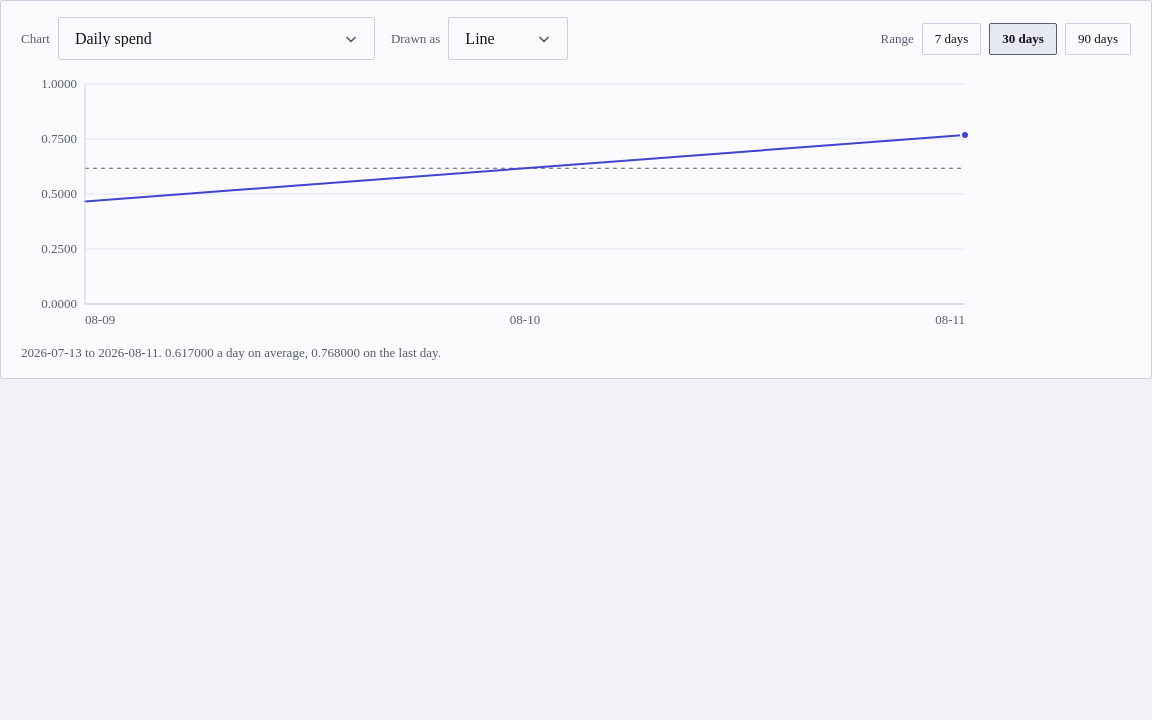
Test case: admin cost charts (W11) › stops adding series at six and lets go again once one is dropped
Select "Compare series" in the dropdown with test id "admin-cost-view" at point(216, 38), box [58,17,375,60]
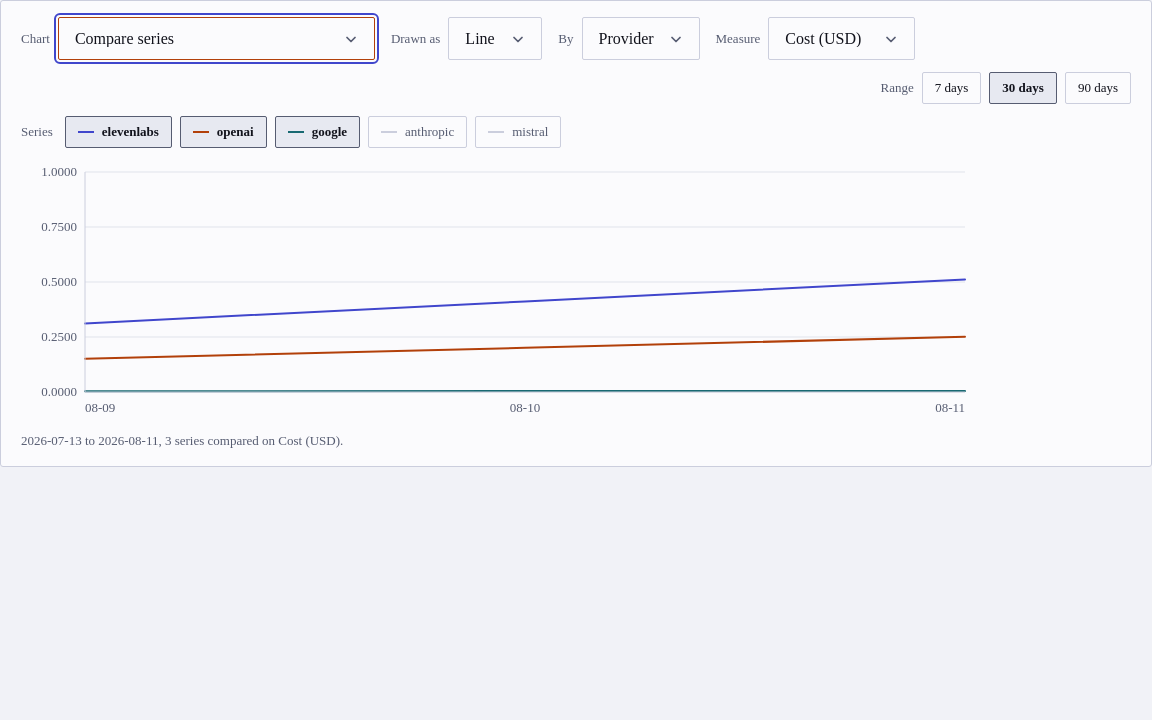
Select "Model" in the dropdown with test id "admin-cost-by" at point(640, 38), box [582,17,700,60]
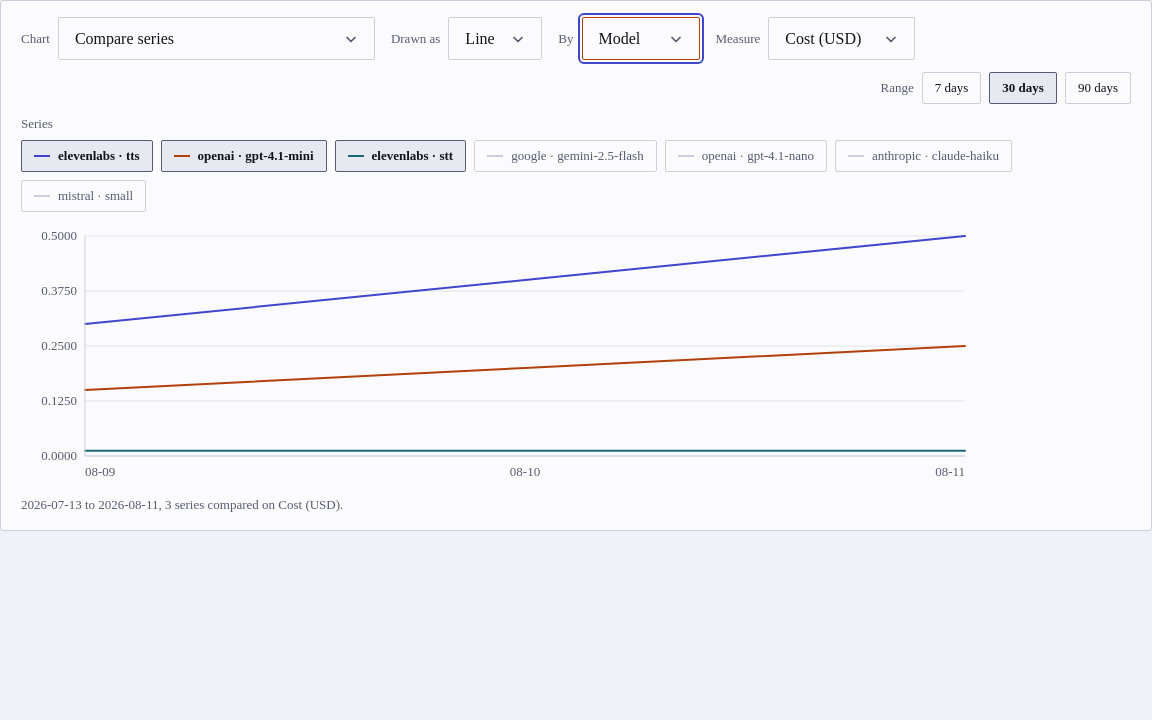
Click the button "google · gemini-2.5-flash" at point(565, 156), box [474,140,657,172]
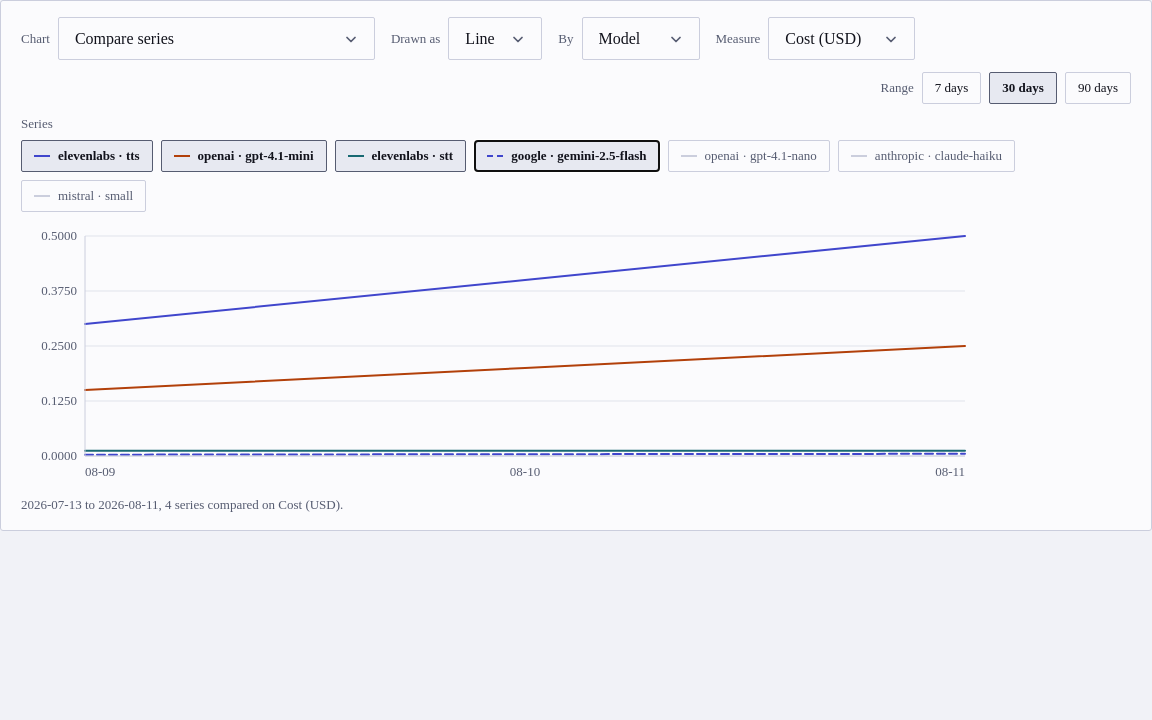
Click the button "openai · gpt-4.1-nano" at point(749, 156), box [668,140,830,172]
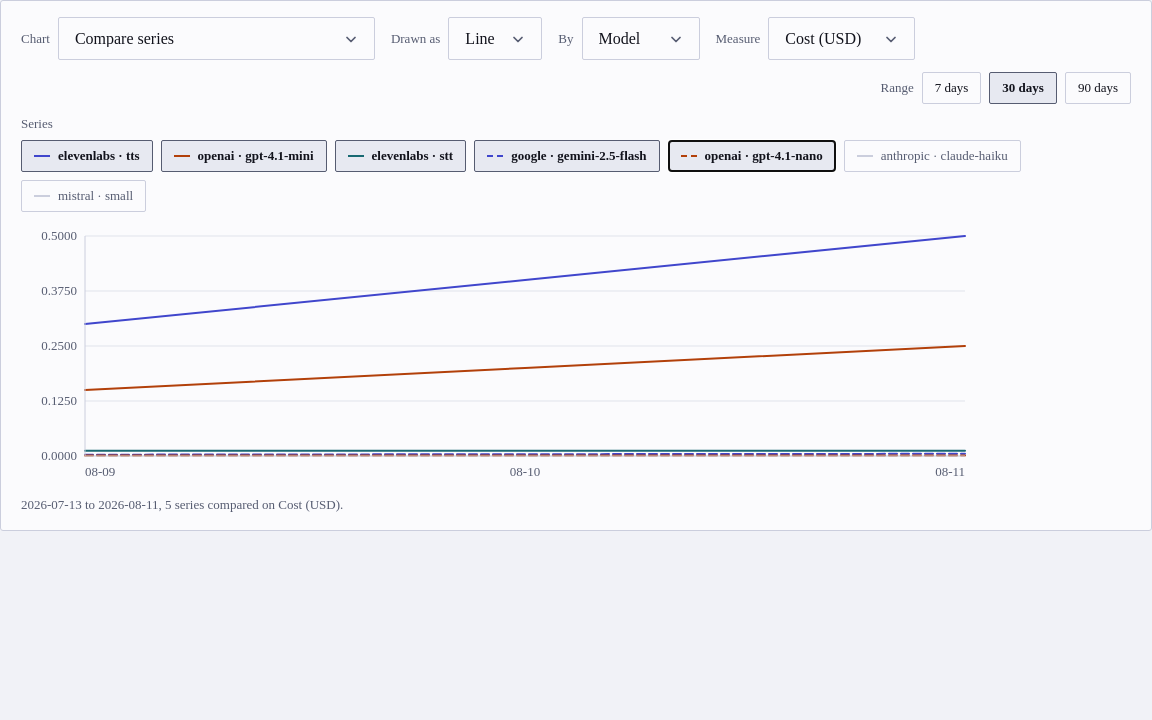
Click the button "anthropic · claude-haiku" at point(932, 156), box [844,140,1021,172]
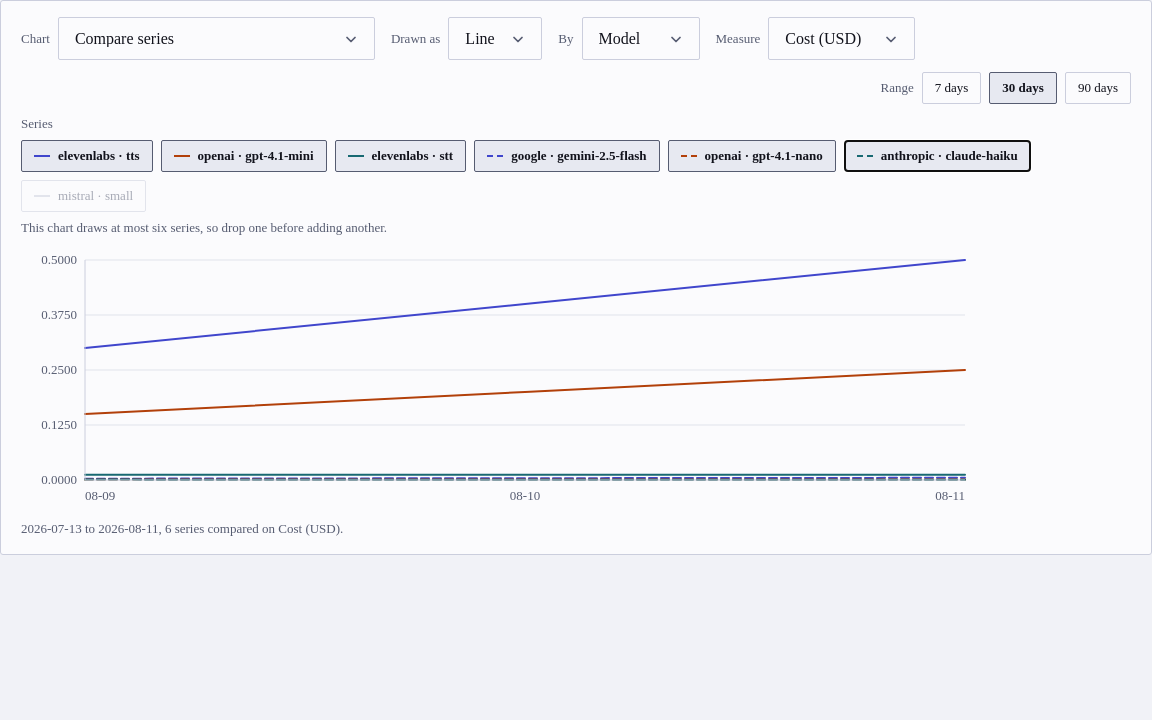
Expected: the text "This chart draws at most six series, so drop one before adding another." is shown, [21,220,387,235]
Click the button "anthropic · claude-haiku" at point(937, 156), box [844,140,1031,172]
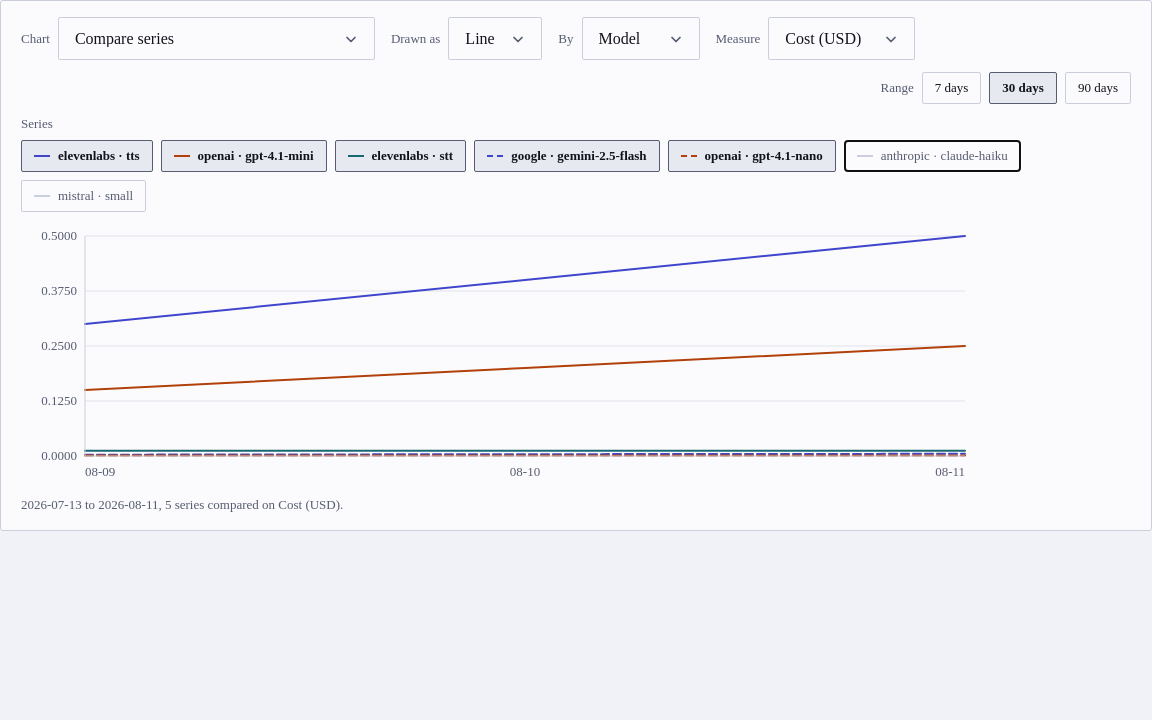
Expected: the text "This chart draws at most six series, so drop one before adding another." is gone
